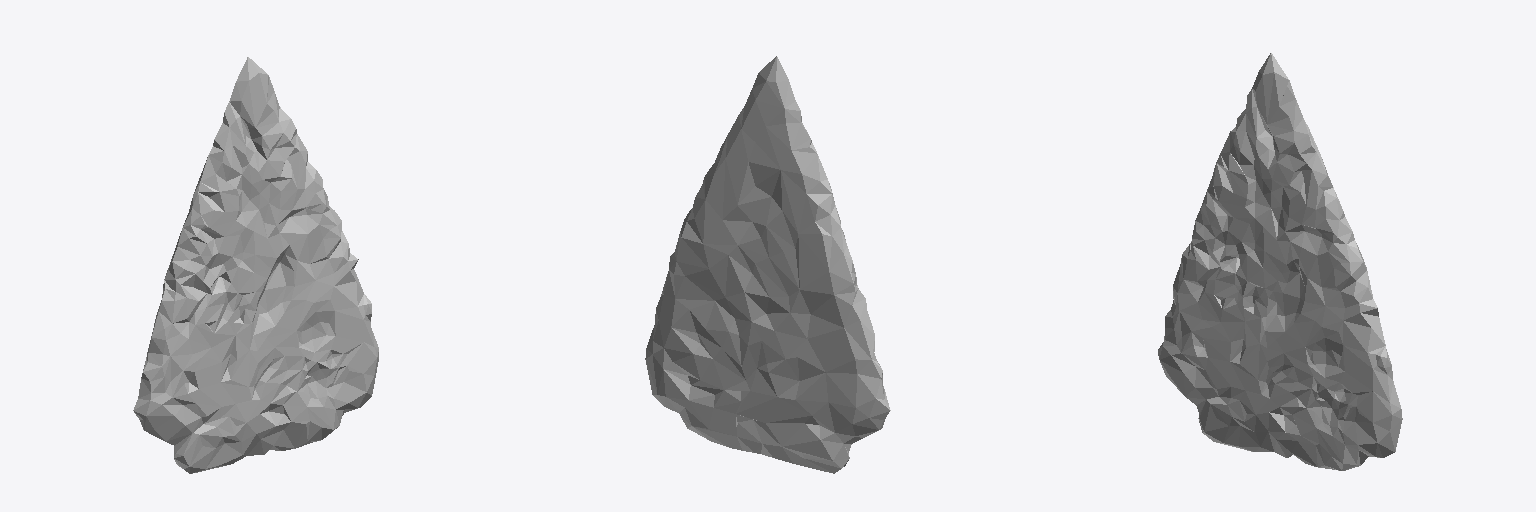
Rendered from Punta_de_flecha.obj.
3 renders of one model, left to right at view 1: azimuth 30°, elevation 25°; view 2: azimuth 150°, elevation 25°; view 3: azimuth 330°, elevation 25°, orthographic.
Visible parts, largest first — view 1: Flecha; view 2: Flecha; view 3: Flecha.
Boxes of the visible parts, box(x1,y1,x2,y2) form: Flecha: box(133, 57, 378, 473); Flecha: box(645, 56, 890, 473); Flecha: box(1158, 53, 1402, 470).
Size of the model in its own units: 3.71 by 5.83 by 0.4351.